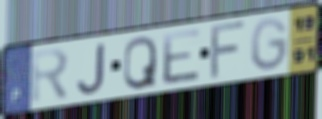E: (161, 26, 203, 87)
F: (207, 18, 249, 82)
G: (249, 15, 290, 74)
J: (75, 41, 108, 97)
Q: (121, 33, 158, 92)
R: (30, 46, 72, 107)
